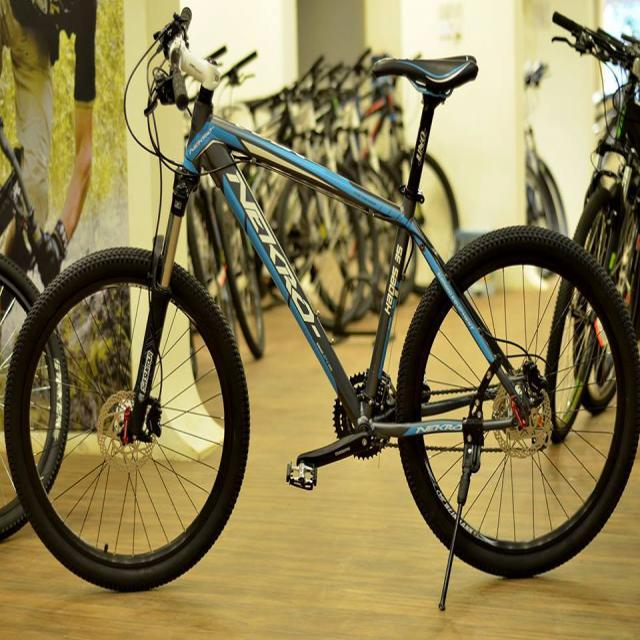Bicycle: (16, 4, 637, 616)
